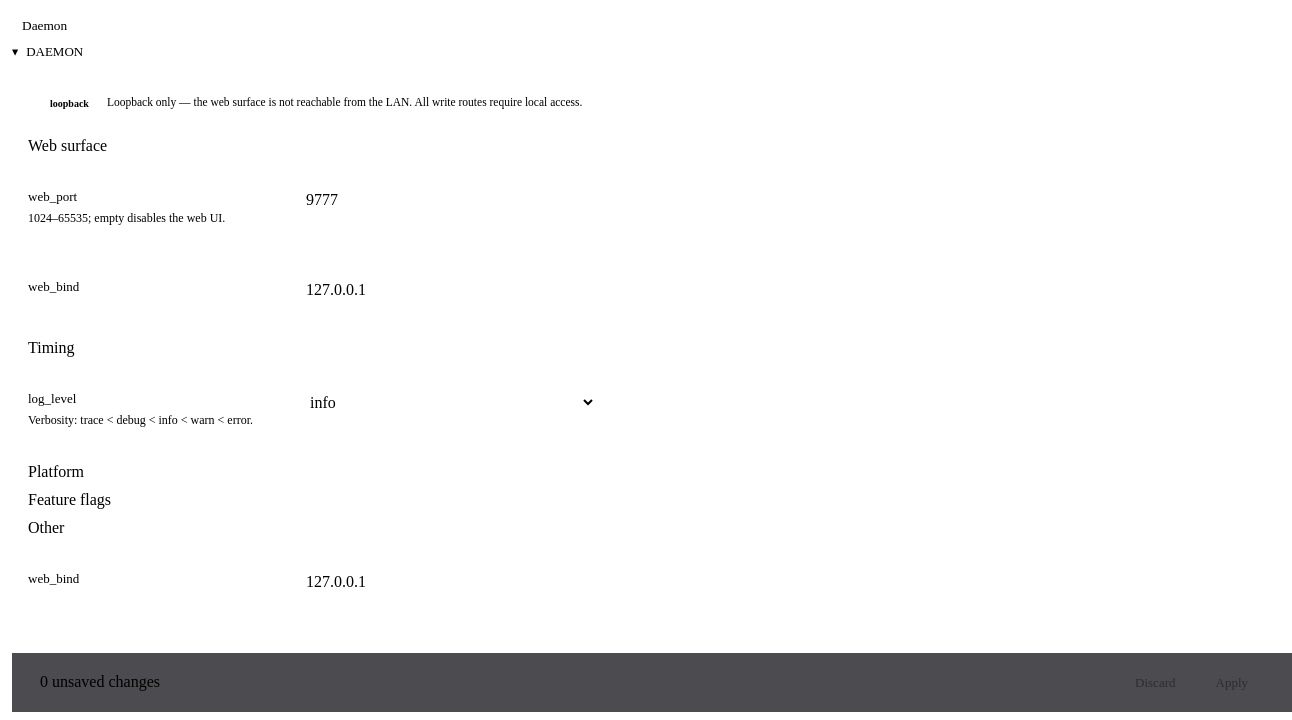
SettingsForm › apply success — green banner and posted body has fingerprint + only dirty paths
Expected: the heading "Daemon" is shown, [26,44,83,60]
Select "debug" in the dropdown labelled "log_level" at (446,402), box [296,386,596,418]
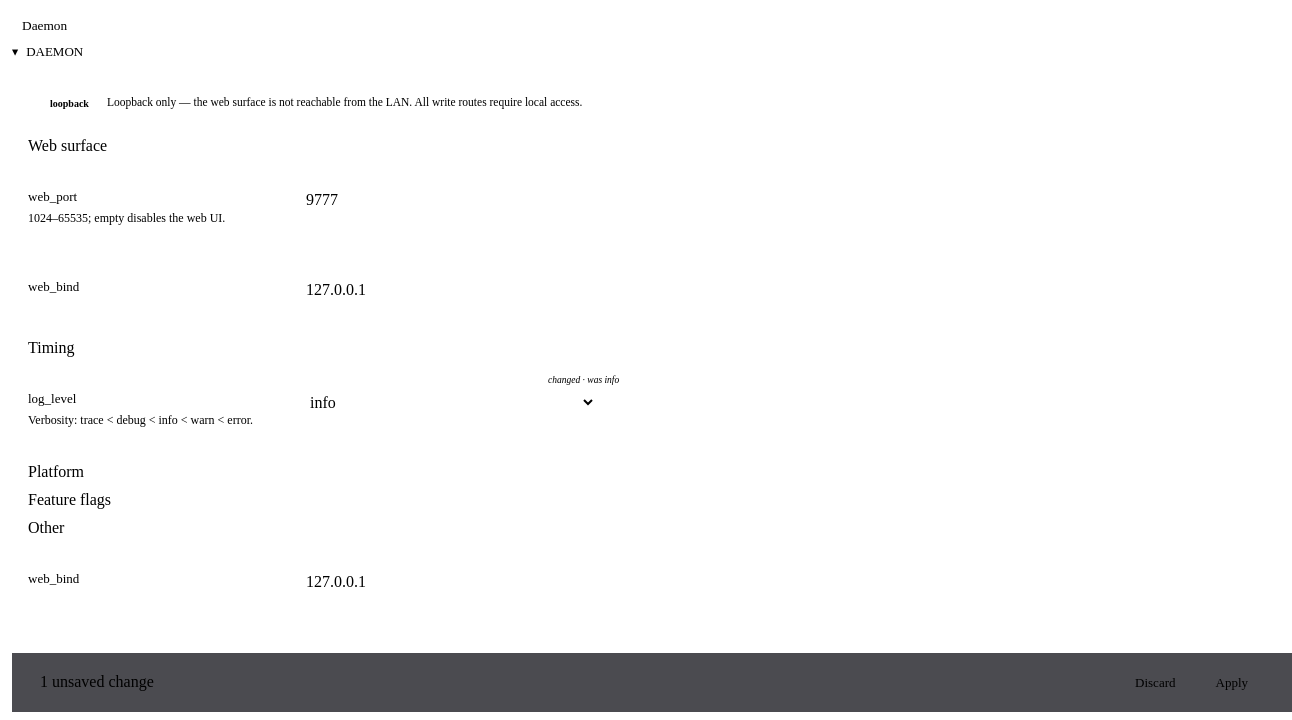
Now the text "1 unsaved change" is shown, box [40,673,154,691]
Click the button "Apply" at (1232,682), box [1200,666,1264,698]
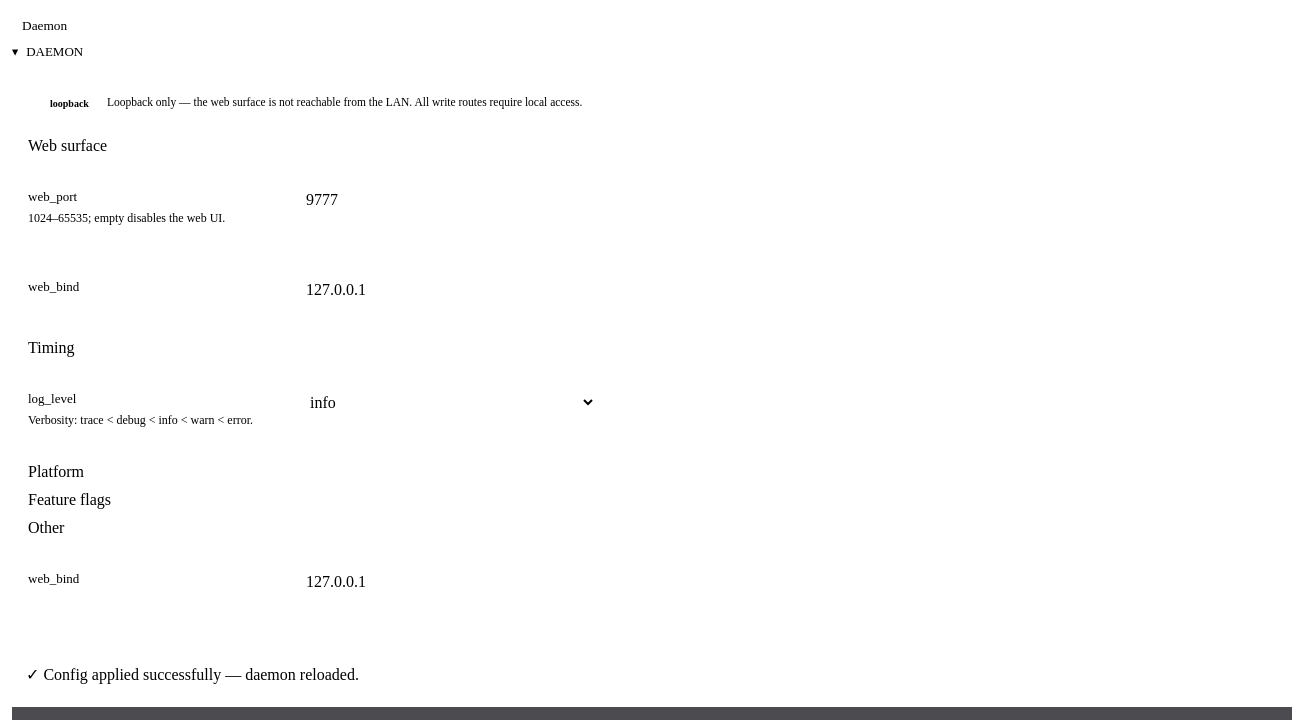
Now the text "✓ Config applied successfully — daemon reloaded." is shown, box [26,666,359,682]
